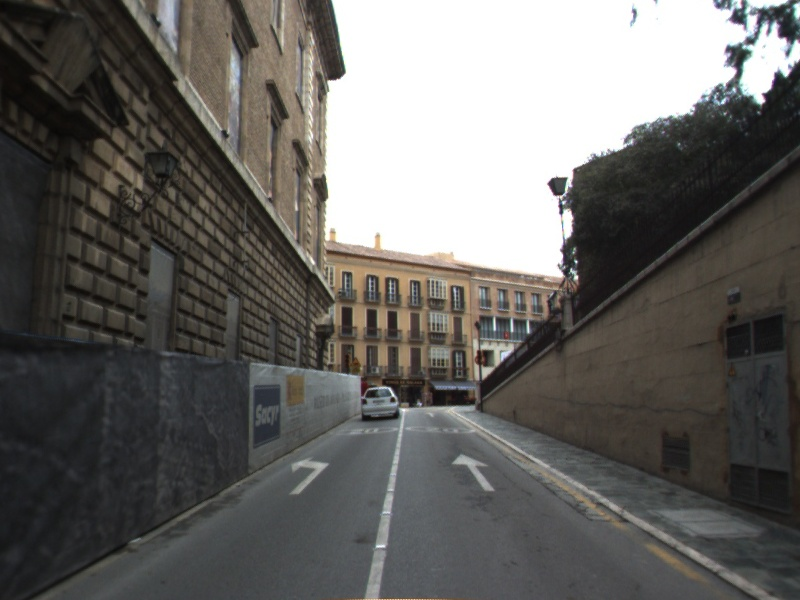LEFT: (288, 455, 331, 496)
STRAIGHT: (450, 452, 496, 493), (423, 411, 437, 419)
